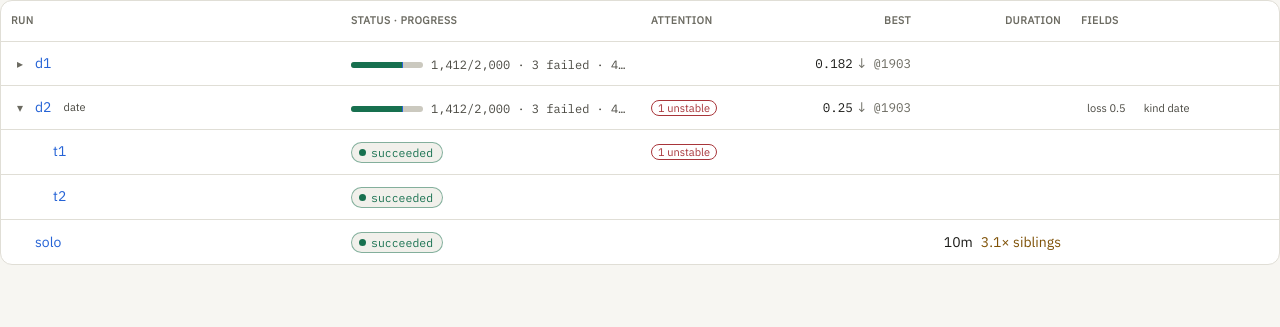
Test: an outer run's tree › loads a folded node's children when it opens, and folds them again
What coordinates should you click on to do the following:
click the button named "expand d1"
I would click on:
 (20, 63)
Its box is [11,56,29,71].
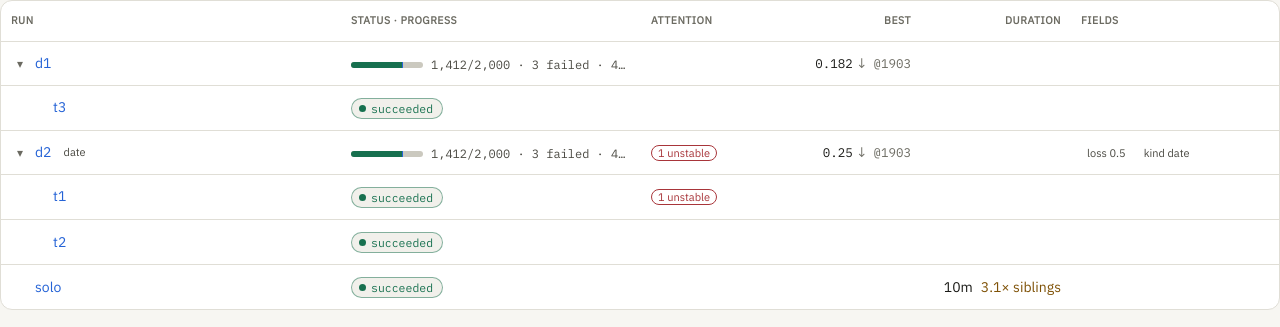
Expected: the link "t3" is shown, [53,97,66,118]
What coordinates should you click on to do the following:
click the button named "collapse d1"
I would click on:
 (20, 63)
Its box is [11,56,29,71].
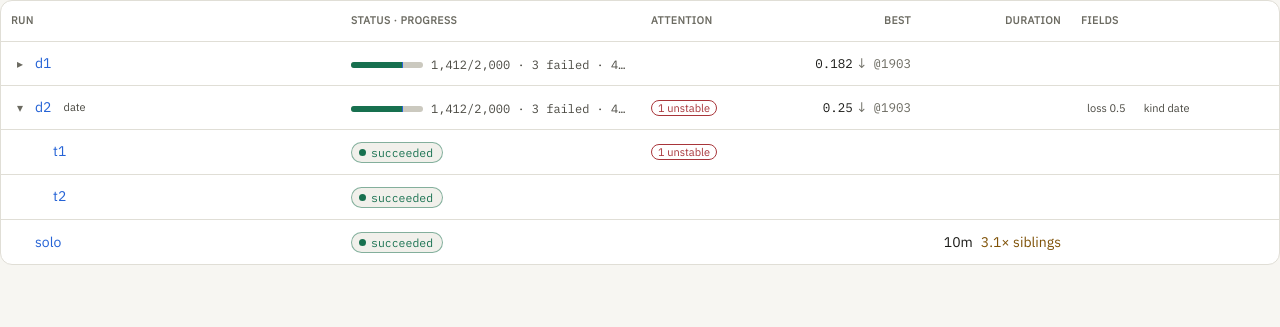
Expected: the link "t3" is gone
